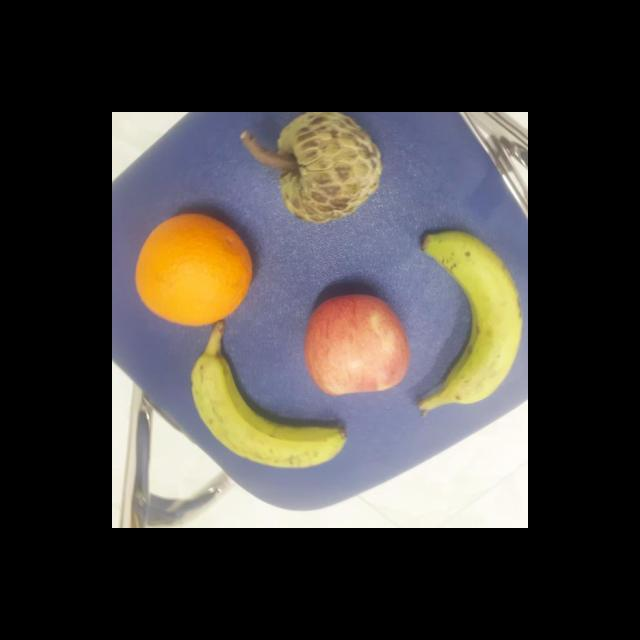Sakya fruit: (276, 112, 383, 224)
apple: (301, 287, 412, 398)
banana: (188, 348, 348, 472), (416, 228, 518, 416)
orange: (132, 212, 254, 330)
